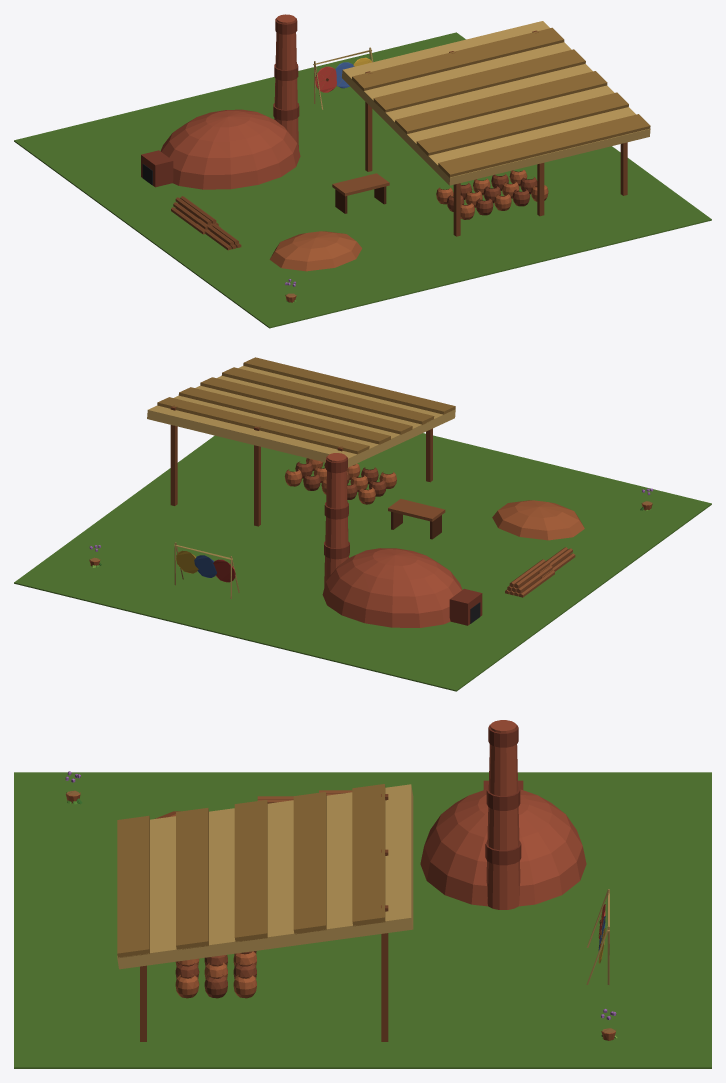
Rendered from factory_2.glb.
3 views of the same model, one above another, from view 1: azimuth 30°, elevation 25°; view 2: azimuth 150°, elevation 25°; view 3: azimuth 270°, elevation 25° (orthographic). The views are drawn at different scales.
Parts seen in each view (by area): view 1: body; view 2: body; view 3: body.
Part boxes in pixels (left/top/right/bottom): body: left=14, top=14, right=711, bottom=328; body: left=14, top=357, right=711, bottom=691; body: left=14, top=720, right=711, bottom=1068.
Size of the model in its own units: 15.9 by 4.74 by 15.9.
